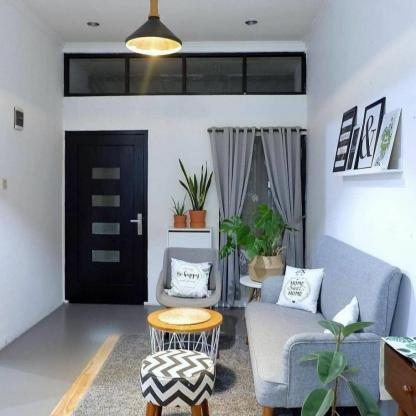bantal: (278, 265, 315, 311), (169, 260, 209, 296)
kursi: (156, 245, 222, 307)
sova: (251, 234, 393, 414)
tanaman: (309, 317, 364, 416), (227, 211, 287, 276), (178, 163, 210, 217)
